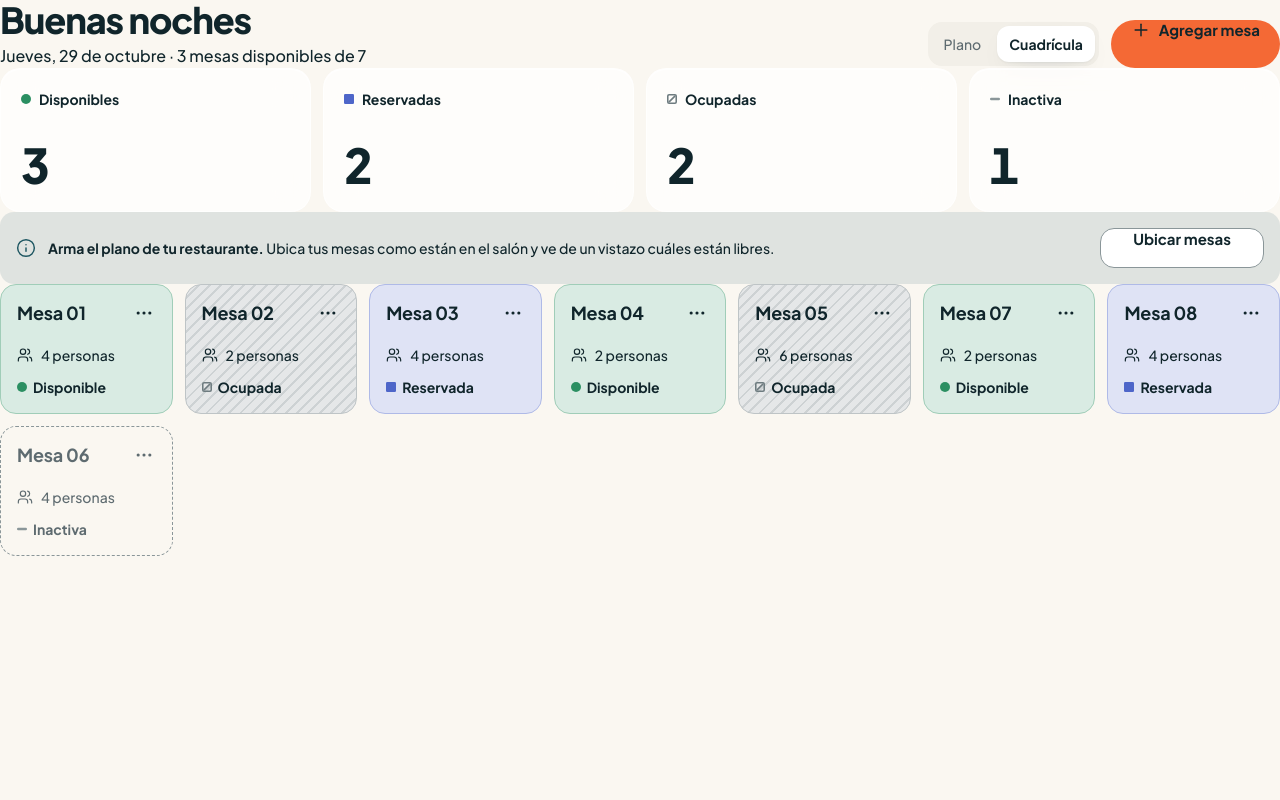
Test: TablesPage · menú ⋯ › opening ⋯ closes an open status picker
The width and height of the screenshot is (1280, 800).
Expected: the list named "Mesas" is shown, [0, 284, 1279, 556]
Step 1. Click the button "Mesa 04" → point(607, 313), box [571, 301, 644, 325]
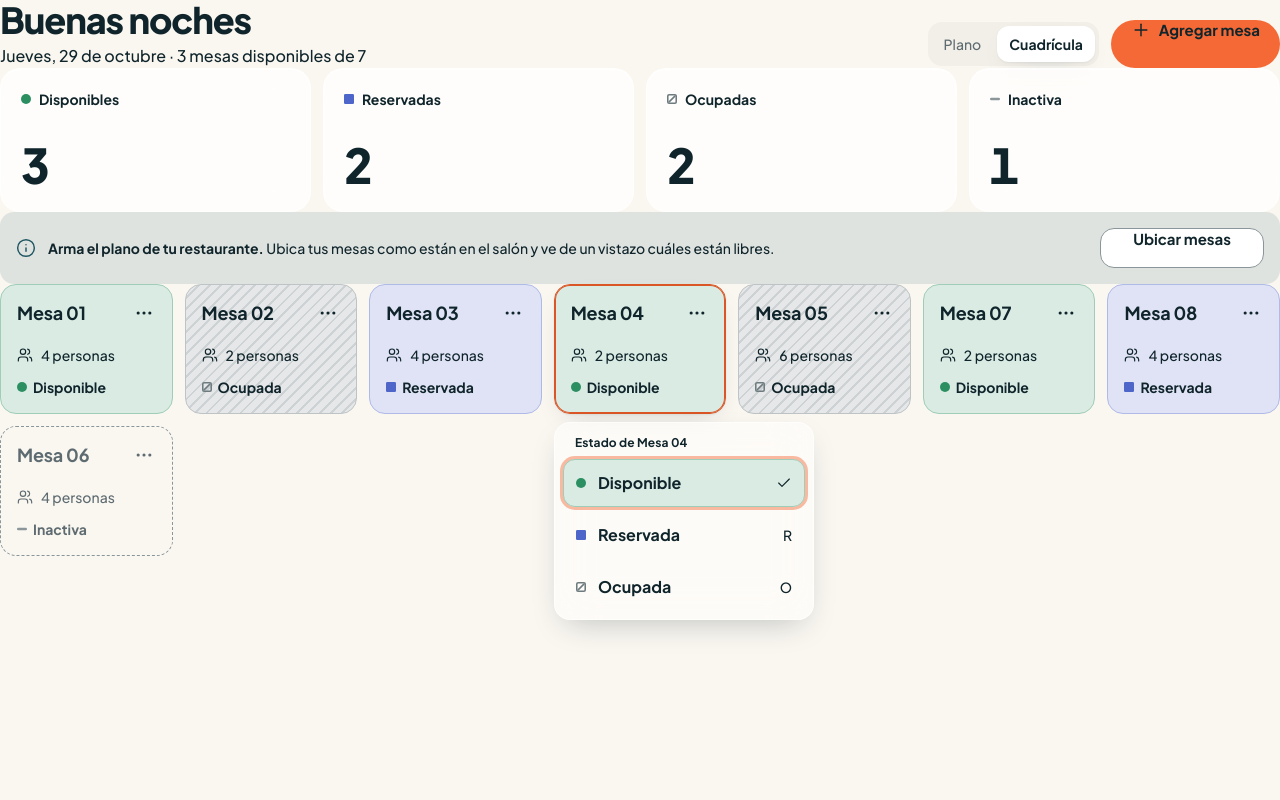
Now the element named "Estado de Mesa 04" is shown, box [563, 459, 805, 611]
Step 2. Click the button named "Más acciones de Mesa 04" → point(697, 313), box [677, 293, 717, 333]
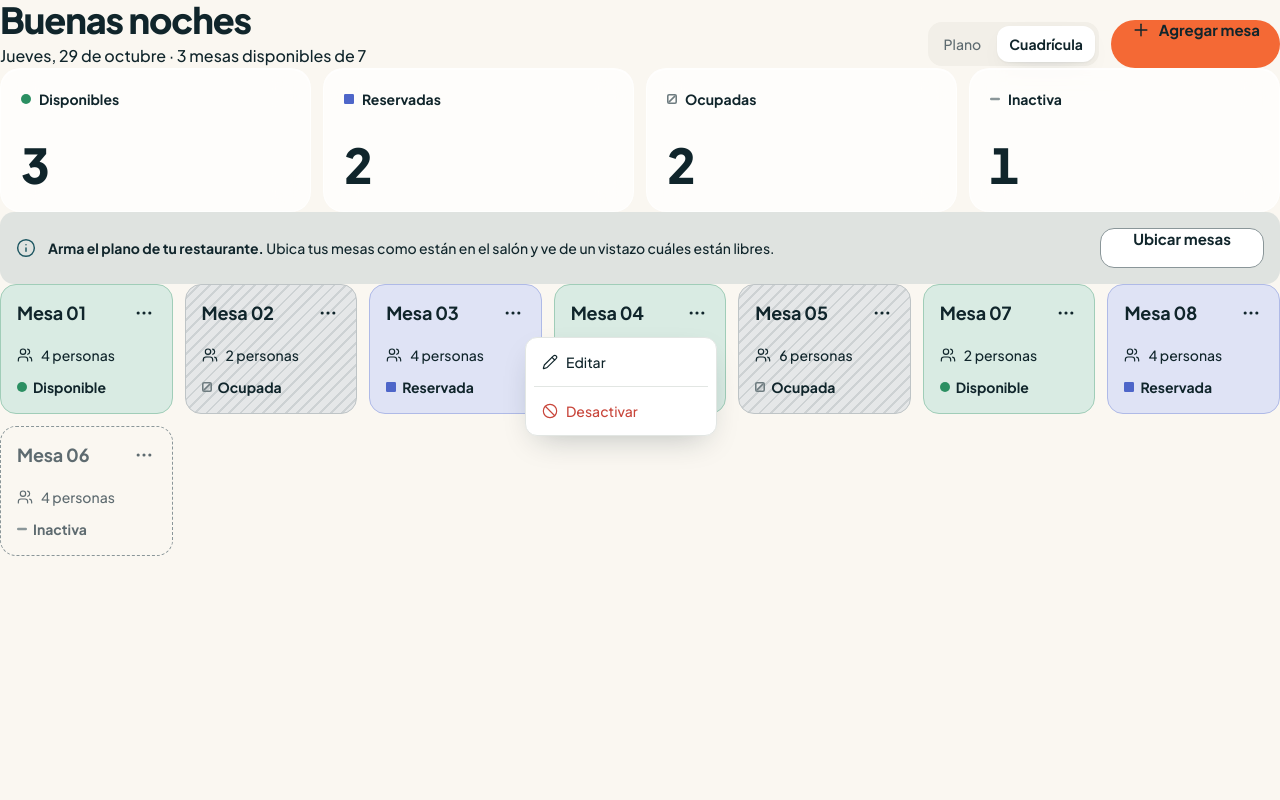
Now the text "Estado de" is gone
Now the menu items read "Editar", "Desactivar", in this order, box [542, 353, 606, 371]; [542, 402, 638, 420]
